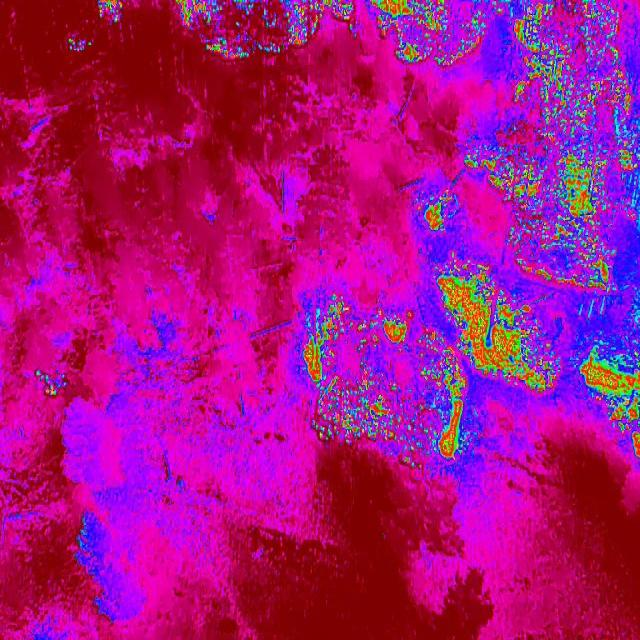fire: (289, 289, 477, 475), (526, 0, 640, 294), (434, 268, 562, 392), (175, 0, 325, 61), (362, 0, 486, 66), (578, 331, 640, 458), (462, 139, 528, 202), (501, 0, 526, 110), (414, 190, 460, 238), (506, 202, 526, 266), (322, 0, 357, 34), (96, 0, 128, 35)
